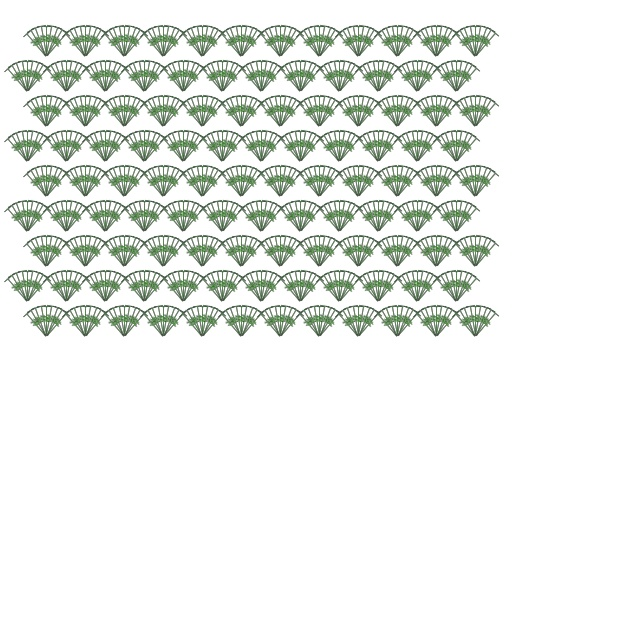fan: (22, 29, 51, 61), (43, 29, 72, 61), (61, 29, 90, 61), (82, 29, 111, 61), (100, 29, 129, 61), (121, 29, 150, 61), (139, 29, 168, 61), (160, 29, 189, 61), (178, 29, 207, 61), (199, 29, 228, 61), (217, 29, 246, 61), (238, 29, 267, 61), (256, 29, 285, 61), (277, 29, 306, 61), (295, 29, 324, 61), (316, 29, 345, 61), (334, 29, 363, 61), (355, 29, 384, 61), (373, 29, 402, 61), (394, 29, 423, 61), (412, 29, 441, 61), (433, 29, 462, 61), (451, 29, 480, 61), (472, 29, 501, 61), (3, 64, 32, 96), (24, 64, 53, 96), (42, 64, 71, 96), (63, 64, 92, 96), (81, 64, 110, 96), (102, 64, 131, 96), (120, 64, 149, 96), (141, 64, 170, 96), (159, 64, 188, 96), (180, 64, 209, 96), (198, 64, 227, 96), (219, 64, 248, 96), (237, 64, 266, 96), (258, 64, 287, 96), (276, 64, 305, 96), (297, 64, 326, 96), (315, 64, 344, 96), (336, 64, 365, 96), (354, 64, 383, 96), (375, 64, 404, 96), (393, 64, 422, 96), (414, 64, 443, 96), (432, 64, 461, 96), (453, 64, 482, 96), (22, 99, 51, 131), (43, 99, 72, 131), (61, 99, 90, 131), (82, 99, 111, 131), (100, 99, 129, 131), (121, 99, 150, 131), (139, 99, 168, 131), (160, 99, 189, 131), (178, 99, 207, 131), (199, 99, 228, 131), (217, 99, 246, 131), (238, 99, 267, 131), (256, 99, 285, 131), (277, 99, 306, 131), (295, 99, 324, 131), (316, 99, 345, 131), (334, 99, 363, 131), (355, 99, 384, 131), (373, 99, 402, 131), (394, 99, 423, 131), (412, 99, 441, 131), (433, 99, 462, 131), (451, 99, 480, 131), (472, 99, 501, 131), (3, 134, 32, 166), (24, 134, 53, 166), (42, 134, 71, 166), (63, 134, 92, 166), (81, 134, 110, 166), (102, 134, 131, 166), (120, 134, 149, 166), (141, 134, 170, 166), (159, 134, 188, 166), (180, 134, 209, 166), (198, 134, 227, 166), (219, 134, 248, 166), (237, 134, 266, 166), (258, 134, 287, 166), (276, 134, 305, 166), (297, 134, 326, 166), (315, 134, 344, 166), (336, 134, 365, 166), (354, 134, 383, 166), (375, 134, 404, 166), (393, 134, 422, 166), (414, 134, 443, 166), (432, 134, 461, 166), (453, 134, 482, 166), (22, 169, 51, 201), (43, 169, 72, 201), (61, 169, 90, 201), (82, 169, 111, 201), (100, 169, 129, 201), (121, 169, 150, 201), (139, 169, 168, 201), (160, 169, 189, 201), (178, 169, 207, 201), (199, 169, 228, 201), (217, 169, 246, 201), (238, 169, 267, 201), (256, 169, 285, 201), (277, 169, 306, 201), (295, 169, 324, 201), (316, 169, 345, 201), (334, 169, 363, 201), (355, 169, 384, 201), (373, 169, 402, 201), (394, 169, 423, 201), (412, 169, 441, 201), (433, 169, 462, 201), (451, 169, 480, 201), (472, 169, 501, 201), (3, 204, 32, 236), (24, 204, 53, 236), (42, 204, 71, 236), (63, 204, 92, 236), (81, 204, 110, 236), (102, 204, 131, 236), (120, 204, 149, 236), (141, 204, 170, 236), (159, 204, 188, 236), (180, 204, 209, 236), (198, 204, 227, 236), (219, 204, 248, 236), (237, 204, 266, 236), (258, 204, 287, 236), (276, 204, 305, 236), (297, 204, 326, 236), (315, 204, 344, 236), (336, 204, 365, 236), (354, 204, 383, 236), (375, 204, 404, 236), (393, 204, 422, 236), (414, 204, 443, 236), (432, 204, 461, 236), (453, 204, 482, 236), (22, 239, 51, 271), (43, 239, 72, 271), (61, 239, 90, 271), (82, 239, 111, 271), (100, 239, 129, 271), (121, 239, 150, 271), (139, 239, 168, 271), (160, 239, 189, 271), (178, 239, 207, 271), (199, 239, 228, 271), (217, 239, 246, 271), (238, 239, 267, 271), (256, 239, 285, 271), (277, 239, 306, 271), (295, 239, 324, 271), (316, 239, 345, 271), (334, 239, 363, 271), (355, 239, 384, 271), (373, 239, 402, 271), (394, 239, 423, 271), (412, 239, 441, 271), (433, 239, 462, 271), (451, 239, 480, 271), (472, 239, 501, 271), (3, 274, 32, 306), (24, 274, 53, 306), (42, 274, 71, 306), (63, 274, 92, 306), (81, 274, 110, 306), (102, 274, 131, 306), (120, 274, 149, 306), (141, 274, 170, 306), (159, 274, 188, 306), (180, 274, 209, 306), (198, 274, 227, 306), (219, 274, 248, 306), (237, 274, 266, 306), (258, 274, 287, 306), (276, 274, 305, 306), (297, 274, 326, 306), (315, 274, 344, 306), (336, 274, 365, 306), (354, 274, 383, 306), (375, 274, 404, 306), (393, 274, 422, 306), (414, 274, 443, 306), (432, 274, 461, 306), (453, 274, 482, 306), (22, 309, 51, 341), (43, 309, 72, 341), (61, 309, 90, 341), (82, 309, 111, 341), (100, 309, 129, 341), (121, 309, 150, 341), (139, 309, 168, 341), (160, 309, 189, 341), (178, 309, 207, 341), (199, 309, 228, 341), (217, 309, 246, 341), (238, 309, 267, 341), (256, 309, 285, 341), (277, 309, 306, 341), (295, 309, 324, 341), (316, 309, 345, 341), (334, 309, 363, 341), (355, 309, 384, 341), (373, 309, 402, 341), (394, 309, 423, 341), (412, 309, 441, 341), (433, 309, 462, 341), (451, 309, 480, 341), (472, 309, 501, 341), (26, 27, 52, 60), (42, 27, 68, 60), (65, 27, 91, 60), (81, 27, 107, 60), (104, 27, 130, 60), (120, 27, 146, 60), (143, 27, 169, 60), (159, 27, 185, 60), (182, 27, 208, 60), (198, 27, 224, 60), (221, 27, 247, 60), (237, 27, 263, 60), (260, 27, 286, 60), (276, 27, 302, 60), (299, 27, 325, 60), (315, 27, 341, 60), (338, 27, 364, 60), (354, 27, 380, 60), (377, 27, 403, 60), (393, 27, 419, 60), (416, 27, 442, 60), (432, 27, 458, 60), (455, 27, 481, 60), (471, 27, 497, 60), (7, 62, 33, 95), (23, 62, 49, 95), (46, 62, 72, 95), (62, 62, 88, 95), (85, 62, 111, 95), (101, 62, 127, 95), (124, 62, 150, 95), (140, 62, 166, 95), (163, 62, 189, 95), (179, 62, 205, 95), (202, 62, 228, 95), (218, 62, 244, 95), (241, 62, 267, 95), (257, 62, 283, 95), (280, 62, 306, 95), (296, 62, 322, 95), (319, 62, 345, 95), (335, 62, 361, 95), (358, 62, 384, 95), (374, 62, 400, 95), (397, 62, 423, 95), (413, 62, 439, 95), (436, 62, 462, 95), (452, 62, 478, 95), (26, 97, 52, 130), (42, 97, 68, 130), (65, 97, 91, 130), (81, 97, 107, 130), (104, 97, 130, 130), (120, 97, 146, 130), (143, 97, 169, 130), (159, 97, 185, 130), (182, 97, 208, 130), (198, 97, 224, 130), (221, 97, 247, 130), (237, 97, 263, 130), (260, 97, 286, 130), (276, 97, 302, 130), (299, 97, 325, 130), (315, 97, 341, 130), (338, 97, 364, 130), (354, 97, 380, 130), (377, 97, 403, 130), (393, 97, 419, 130), (416, 97, 442, 130), (432, 97, 458, 130), (455, 97, 481, 130), (471, 97, 497, 130), (7, 132, 33, 165), (23, 132, 49, 165), (46, 132, 72, 165), (62, 132, 88, 165), (85, 132, 111, 165), (101, 132, 127, 165), (124, 132, 150, 165), (140, 132, 166, 165), (163, 132, 189, 165), (179, 132, 205, 165), (202, 132, 228, 165), (218, 132, 244, 165), (241, 132, 267, 165), (257, 132, 283, 165), (280, 132, 306, 165), (296, 132, 322, 165), (319, 132, 345, 165), (335, 132, 361, 165), (358, 132, 384, 165), (374, 132, 400, 165), (397, 132, 423, 165), (413, 132, 439, 165), (436, 132, 462, 165), (452, 132, 478, 165), (26, 167, 52, 200), (42, 167, 68, 200), (65, 167, 91, 200), (81, 167, 107, 200), (104, 167, 130, 200), (120, 167, 146, 200), (143, 167, 169, 200), (159, 167, 185, 200), (182, 167, 208, 200), (198, 167, 224, 200), (221, 167, 247, 200), (237, 167, 263, 200), (260, 167, 286, 200), (276, 167, 302, 200), (299, 167, 325, 200), (315, 167, 341, 200), (338, 167, 364, 200), (354, 167, 380, 200), (377, 167, 403, 200), (393, 167, 419, 200), (416, 167, 442, 200), (432, 167, 458, 200), (455, 167, 481, 200), (471, 167, 497, 200), (7, 202, 33, 235), (23, 202, 49, 235), (46, 202, 72, 235), (62, 202, 88, 235), (85, 202, 111, 235), (101, 202, 127, 235), (124, 202, 150, 235), (140, 202, 166, 235), (163, 202, 189, 235), (179, 202, 205, 235), (202, 202, 228, 235), (218, 202, 244, 235), (241, 202, 267, 235), (257, 202, 283, 235), (280, 202, 306, 235), (296, 202, 322, 235), (319, 202, 345, 235), (335, 202, 361, 235), (358, 202, 384, 235), (374, 202, 400, 235), (397, 202, 423, 235), (413, 202, 439, 235), (436, 202, 462, 235), (452, 202, 478, 235), (26, 237, 52, 270), (42, 237, 68, 270), (65, 237, 91, 270), (81, 237, 107, 270), (104, 237, 130, 270), (120, 237, 146, 270), (143, 237, 169, 270), (159, 237, 185, 270), (182, 237, 208, 270), (198, 237, 224, 270), (221, 237, 247, 270), (237, 237, 263, 270), (260, 237, 286, 270), (276, 237, 302, 270), (299, 237, 325, 270), (315, 237, 341, 270), (338, 237, 364, 270), (354, 237, 380, 270), (377, 237, 403, 270), (393, 237, 419, 270), (416, 237, 442, 270), (432, 237, 458, 270), (455, 237, 481, 270), (471, 237, 497, 270), (7, 272, 33, 305), (23, 272, 49, 305), (46, 272, 72, 305), (62, 272, 88, 305), (85, 272, 111, 305), (101, 272, 127, 305), (124, 272, 150, 305), (140, 272, 166, 305), (163, 272, 189, 305), (179, 272, 205, 305), (202, 272, 228, 305), (218, 272, 244, 305), (241, 272, 267, 305), (257, 272, 283, 305), (280, 272, 306, 305), (296, 272, 322, 305), (319, 272, 345, 305), (335, 272, 361, 305), (358, 272, 384, 305), (374, 272, 400, 305), (397, 272, 423, 305), (413, 272, 439, 305), (436, 272, 462, 305), (452, 272, 478, 305), (26, 307, 52, 340), (42, 307, 68, 340), (65, 307, 91, 340), (81, 307, 107, 340), (104, 307, 130, 340), (120, 307, 146, 340), (143, 307, 169, 340), (159, 307, 185, 340), (182, 307, 208, 340), (198, 307, 224, 340), (221, 307, 247, 340), (237, 307, 263, 340), (260, 307, 286, 340), (276, 307, 302, 340), (299, 307, 325, 340), (315, 307, 341, 340), (338, 307, 364, 340), (354, 307, 380, 340), (377, 307, 403, 340), (393, 307, 419, 340), (416, 307, 442, 340), (432, 307, 458, 340), (455, 307, 481, 340), (471, 307, 497, 340), (31, 25, 52, 59), (42, 25, 63, 59), (70, 25, 91, 59), (81, 25, 102, 59), (109, 25, 130, 59), (120, 25, 141, 59), (148, 25, 169, 59), (159, 25, 180, 59), (187, 25, 208, 59), (198, 25, 219, 59), (226, 25, 247, 59), (237, 25, 258, 59), (265, 25, 286, 59), (276, 25, 297, 59), (304, 25, 325, 59), (315, 25, 336, 59), (343, 25, 364, 59), (354, 25, 375, 59), (382, 25, 403, 59), (393, 25, 414, 59), (421, 25, 442, 59), (432, 25, 453, 59), (460, 25, 481, 59), (471, 25, 492, 59), (12, 60, 33, 94), (23, 60, 44, 94), (51, 60, 72, 94), (62, 60, 83, 94), (90, 60, 111, 94), (101, 60, 122, 94), (129, 60, 150, 94), (140, 60, 161, 94), (168, 60, 189, 94), (179, 60, 200, 94), (207, 60, 228, 94), (218, 60, 239, 94), (246, 60, 267, 94), (257, 60, 278, 94), (285, 60, 306, 94), (296, 60, 317, 94), (324, 60, 345, 94), (335, 60, 356, 94), (363, 60, 384, 94), (374, 60, 395, 94), (402, 60, 423, 94), (413, 60, 434, 94), (441, 60, 462, 94), (452, 60, 473, 94), (31, 95, 52, 129), (42, 95, 63, 129), (70, 95, 91, 129), (81, 95, 102, 129), (109, 95, 130, 129), (120, 95, 141, 129), (148, 95, 169, 129), (159, 95, 180, 129), (187, 95, 208, 129), (198, 95, 219, 129), (226, 95, 247, 129), (237, 95, 258, 129), (265, 95, 286, 129), (276, 95, 297, 129), (304, 95, 325, 129), (315, 95, 336, 129), (343, 95, 364, 129), (354, 95, 375, 129), (382, 95, 403, 129), (393, 95, 414, 129), (421, 95, 442, 129), (432, 95, 453, 129), (460, 95, 481, 129), (471, 95, 492, 129), (12, 130, 33, 164), (23, 130, 44, 164), (51, 130, 72, 164), (62, 130, 83, 164), (90, 130, 111, 164), (101, 130, 122, 164), (129, 130, 150, 164), (140, 130, 161, 164), (168, 130, 189, 164), (179, 130, 200, 164), (207, 130, 228, 164), (218, 130, 239, 164), (246, 130, 267, 164), (257, 130, 278, 164), (285, 130, 306, 164), (296, 130, 317, 164), (324, 130, 345, 164), (335, 130, 356, 164), (363, 130, 384, 164), (374, 130, 395, 164), (402, 130, 423, 164), (413, 130, 434, 164), (441, 130, 462, 164), (452, 130, 473, 164), (31, 165, 52, 199), (42, 165, 63, 199), (70, 165, 91, 199), (81, 165, 102, 199), (109, 165, 130, 199), (120, 165, 141, 199), (148, 165, 169, 199), (159, 165, 180, 199), (187, 165, 208, 199), (198, 165, 219, 199), (226, 165, 247, 199), (237, 165, 258, 199), (265, 165, 286, 199), (276, 165, 297, 199), (304, 165, 325, 199), (315, 165, 336, 199), (343, 165, 364, 199), (354, 165, 375, 199), (382, 165, 403, 199), (393, 165, 414, 199), (421, 165, 442, 199), (432, 165, 453, 199), (460, 165, 481, 199), (471, 165, 492, 199), (12, 200, 33, 234), (23, 200, 44, 234), (51, 200, 72, 234), (62, 200, 83, 234), (90, 200, 111, 234), (101, 200, 122, 234), (129, 200, 150, 234), (140, 200, 161, 234), (168, 200, 189, 234), (179, 200, 200, 234), (207, 200, 228, 234), (218, 200, 239, 234), (246, 200, 267, 234), (257, 200, 278, 234), (285, 200, 306, 234), (296, 200, 317, 234), (324, 200, 345, 234), (335, 200, 356, 234), (363, 200, 384, 234), (374, 200, 395, 234), (402, 200, 423, 234), (413, 200, 434, 234), (441, 200, 462, 234), (452, 200, 473, 234), (31, 235, 52, 269), (42, 235, 63, 269), (70, 235, 91, 269), (81, 235, 102, 269), (109, 235, 130, 269), (120, 235, 141, 269), (148, 235, 169, 269), (159, 235, 180, 269), (187, 235, 208, 269), (198, 235, 219, 269), (226, 235, 247, 269), (237, 235, 258, 269), (265, 235, 286, 269), (276, 235, 297, 269), (304, 235, 325, 269), (315, 235, 336, 269), (343, 235, 364, 269), (354, 235, 375, 269), (382, 235, 403, 269), (393, 235, 414, 269), (421, 235, 442, 269), (432, 235, 453, 269), (460, 235, 481, 269), (471, 235, 492, 269), (12, 270, 33, 304), (23, 270, 44, 304), (51, 270, 72, 304), (62, 270, 83, 304), (90, 270, 111, 304), (101, 270, 122, 304), (129, 270, 150, 304), (140, 270, 161, 304), (168, 270, 189, 304), (179, 270, 200, 304), (207, 270, 228, 304), (218, 270, 239, 304), (246, 270, 267, 304), (257, 270, 278, 304), (285, 270, 306, 304), (296, 270, 317, 304), (324, 270, 345, 304), (335, 270, 356, 304), (363, 270, 384, 304), (374, 270, 395, 304), (402, 270, 423, 304), (413, 270, 434, 304), (441, 270, 462, 304), (452, 270, 473, 304), (31, 305, 52, 339), (42, 305, 63, 339), (70, 305, 91, 339), (81, 305, 102, 339), (109, 305, 130, 339), (120, 305, 141, 339), (148, 305, 169, 339), (159, 305, 180, 339), (187, 305, 208, 339), (198, 305, 219, 339), (226, 305, 247, 339), (237, 305, 258, 339), (265, 305, 286, 339), (276, 305, 297, 339), (304, 305, 325, 339), (315, 305, 336, 339), (343, 305, 364, 339), (354, 305, 375, 339), (382, 305, 403, 339), (393, 305, 414, 339), (421, 305, 442, 339), (432, 305, 453, 339), (460, 305, 481, 339), (471, 305, 492, 339), (36, 25, 52, 58), (42, 25, 58, 58), (75, 25, 91, 58), (81, 25, 97, 58), (114, 25, 130, 58), (120, 25, 136, 58), (153, 25, 169, 58), (159, 25, 175, 58), (192, 25, 208, 58), (198, 25, 214, 58), (231, 25, 247, 58), (237, 25, 253, 58), (270, 25, 286, 58), (276, 25, 292, 58), (309, 25, 325, 58), (315, 25, 331, 58), (348, 25, 364, 58), (354, 25, 370, 58), (387, 25, 403, 58), (393, 25, 409, 58), (426, 25, 442, 58), (432, 25, 448, 58), (465, 25, 481, 58), (471, 25, 487, 58), (17, 60, 33, 93), (23, 60, 39, 93), (56, 60, 72, 93), (62, 60, 78, 93), (95, 60, 111, 93), (101, 60, 117, 93), (134, 60, 150, 93), (140, 60, 156, 93), (173, 60, 189, 93), (179, 60, 195, 93), (212, 60, 228, 93), (218, 60, 234, 93), (251, 60, 267, 93), (257, 60, 273, 93), (290, 60, 306, 93), (296, 60, 312, 93), (329, 60, 345, 93), (335, 60, 351, 93), (368, 60, 384, 93), (374, 60, 390, 93), (407, 60, 423, 93), (413, 60, 429, 93), (446, 60, 462, 93), (452, 60, 468, 93), (36, 95, 52, 128), (42, 95, 58, 128), (75, 95, 91, 128), (81, 95, 97, 128), (114, 95, 130, 128), (120, 95, 136, 128), (153, 95, 169, 128), (159, 95, 175, 128), (192, 95, 208, 128), (198, 95, 214, 128), (231, 95, 247, 128), (237, 95, 253, 128), (270, 95, 286, 128), (276, 95, 292, 128), (309, 95, 325, 128), (315, 95, 331, 128), (348, 95, 364, 128), (354, 95, 370, 128), (387, 95, 403, 128), (393, 95, 409, 128), (426, 95, 442, 128), (432, 95, 448, 128), (465, 95, 481, 128), (471, 95, 487, 128), (17, 130, 33, 163), (23, 130, 39, 163), (56, 130, 72, 163), (62, 130, 78, 163), (95, 130, 111, 163), (101, 130, 117, 163), (134, 130, 150, 163), (140, 130, 156, 163), (173, 130, 189, 163), (179, 130, 195, 163), (212, 130, 228, 163), (218, 130, 234, 163), (251, 130, 267, 163), (257, 130, 273, 163), (290, 130, 306, 163), (296, 130, 312, 163), (329, 130, 345, 163), (335, 130, 351, 163), (368, 130, 384, 163), (374, 130, 390, 163), (407, 130, 423, 163), (413, 130, 429, 163), (446, 130, 462, 163), (452, 130, 468, 163), (36, 165, 52, 198), (42, 165, 58, 198), (75, 165, 91, 198), (81, 165, 97, 198), (114, 165, 130, 198), (120, 165, 136, 198), (153, 165, 169, 198), (159, 165, 175, 198), (192, 165, 208, 198), (198, 165, 214, 198), (231, 165, 247, 198), (237, 165, 253, 198), (270, 165, 286, 198), (276, 165, 292, 198), (309, 165, 325, 198), (315, 165, 331, 198), (348, 165, 364, 198), (354, 165, 370, 198), (387, 165, 403, 198), (393, 165, 409, 198), (426, 165, 442, 198), (432, 165, 448, 198), (465, 165, 481, 198), (471, 165, 487, 198), (17, 200, 33, 233), (23, 200, 39, 233), (56, 200, 72, 233), (62, 200, 78, 233), (95, 200, 111, 233), (101, 200, 117, 233), (134, 200, 150, 233), (140, 200, 156, 233), (173, 200, 189, 233), (179, 200, 195, 233), (212, 200, 228, 233), (218, 200, 234, 233), (251, 200, 267, 233), (257, 200, 273, 233), (290, 200, 306, 233), (296, 200, 312, 233), (329, 200, 345, 233), (335, 200, 351, 233), (368, 200, 384, 233), (374, 200, 390, 233), (407, 200, 423, 233), (413, 200, 429, 233), (446, 200, 462, 233), (452, 200, 468, 233), (36, 235, 52, 268), (42, 235, 58, 268), (75, 235, 91, 268), (81, 235, 97, 268), (114, 235, 130, 268), (120, 235, 136, 268), (153, 235, 169, 268), (159, 235, 175, 268), (192, 235, 208, 268), (198, 235, 214, 268), (231, 235, 247, 268), (237, 235, 253, 268), (270, 235, 286, 268), (276, 235, 292, 268), (309, 235, 325, 268), (315, 235, 331, 268), (348, 235, 364, 268), (354, 235, 370, 268), (387, 235, 403, 268), (393, 235, 409, 268), (426, 235, 442, 268), (432, 235, 448, 268), (465, 235, 481, 268), (471, 235, 487, 268), (17, 270, 33, 303), (23, 270, 39, 303), (56, 270, 72, 303), (62, 270, 78, 303), (95, 270, 111, 303), (101, 270, 117, 303), (134, 270, 150, 303), (140, 270, 156, 303), (173, 270, 189, 303), (179, 270, 195, 303), (212, 270, 228, 303), (218, 270, 234, 303), (251, 270, 267, 303), (257, 270, 273, 303), (290, 270, 306, 303), (296, 270, 312, 303), (329, 270, 345, 303), (335, 270, 351, 303), (368, 270, 384, 303), (374, 270, 390, 303), (407, 270, 423, 303), (413, 270, 429, 303), (446, 270, 462, 303), (452, 270, 468, 303), (36, 305, 52, 338), (42, 305, 58, 338), (75, 305, 91, 338), (81, 305, 97, 338), (114, 305, 130, 338), (120, 305, 136, 338), (153, 305, 169, 338), (159, 305, 175, 338), (192, 305, 208, 338), (198, 305, 214, 338), (231, 305, 247, 338), (237, 305, 253, 338), (270, 305, 286, 338), (276, 305, 292, 338), (309, 305, 325, 338), (315, 305, 331, 338), (348, 305, 364, 338), (354, 305, 370, 338), (387, 305, 403, 338), (393, 305, 409, 338), (426, 305, 442, 338), (432, 305, 448, 338), (465, 305, 481, 338), (471, 305, 487, 338), (80, 25, 92, 57), (158, 25, 170, 57), (236, 25, 248, 57), (314, 25, 326, 57), (392, 25, 404, 57), (470, 25, 482, 57), (22, 60, 34, 92), (100, 60, 112, 92), (178, 60, 190, 92), (256, 60, 268, 92), (334, 60, 346, 92), (412, 60, 424, 92), (80, 95, 92, 127), (158, 95, 170, 127), (236, 95, 248, 127), (314, 95, 326, 127), (392, 95, 404, 127), (470, 95, 482, 127), (22, 130, 34, 162), (100, 130, 112, 162), (178, 130, 190, 162), (256, 130, 268, 162), (334, 130, 346, 162), (412, 130, 424, 162), (80, 165, 92, 197), (158, 165, 170, 197), (236, 165, 248, 197), (314, 165, 326, 197), (392, 165, 404, 197), (470, 165, 482, 197), (22, 200, 34, 232), (100, 200, 112, 232), (178, 200, 190, 232), (256, 200, 268, 232), (334, 200, 346, 232), (412, 200, 424, 232), (80, 235, 92, 267), (158, 235, 170, 267), (236, 235, 248, 267), (314, 235, 326, 267), (392, 235, 404, 267), (470, 235, 482, 267), (22, 270, 34, 302), (100, 270, 112, 302), (178, 270, 190, 302), (256, 270, 268, 302), (334, 270, 346, 302), (412, 270, 424, 302), (80, 305, 92, 337), (158, 305, 170, 337), (236, 305, 248, 337), (314, 305, 326, 337), (392, 305, 404, 337), (470, 305, 482, 337), (42, 25, 52, 57), (120, 25, 130, 57), (198, 25, 208, 57), (276, 25, 286, 57), (354, 25, 364, 57), (432, 25, 442, 57), (62, 60, 72, 92), (140, 60, 150, 92), (218, 60, 228, 92), (296, 60, 306, 92), (374, 60, 384, 92), (452, 60, 462, 92), (42, 95, 52, 127), (120, 95, 130, 127), (198, 95, 208, 127), (276, 95, 286, 127), (354, 95, 364, 127), (432, 95, 442, 127), (62, 130, 72, 162), (140, 130, 150, 162), (218, 130, 228, 162), (296, 130, 306, 162), (374, 130, 384, 162), (452, 130, 462, 162), (42, 165, 52, 197), (120, 165, 130, 197), (198, 165, 208, 197), (276, 165, 286, 197), (354, 165, 364, 197), (432, 165, 442, 197), (62, 200, 72, 232), (140, 200, 150, 232), (218, 200, 228, 232), (296, 200, 306, 232), (374, 200, 384, 232), (452, 200, 462, 232), (42, 235, 52, 267), (120, 235, 130, 267), (198, 235, 208, 267), (276, 235, 286, 267), (354, 235, 364, 267), (432, 235, 442, 267), (62, 270, 72, 302), (140, 270, 150, 302), (218, 270, 228, 302), (296, 270, 306, 302), (374, 270, 384, 302), (452, 270, 462, 302), (42, 305, 52, 337), (120, 305, 130, 337), (198, 305, 208, 337), (276, 305, 286, 337), (354, 305, 364, 337), (432, 305, 442, 337)
